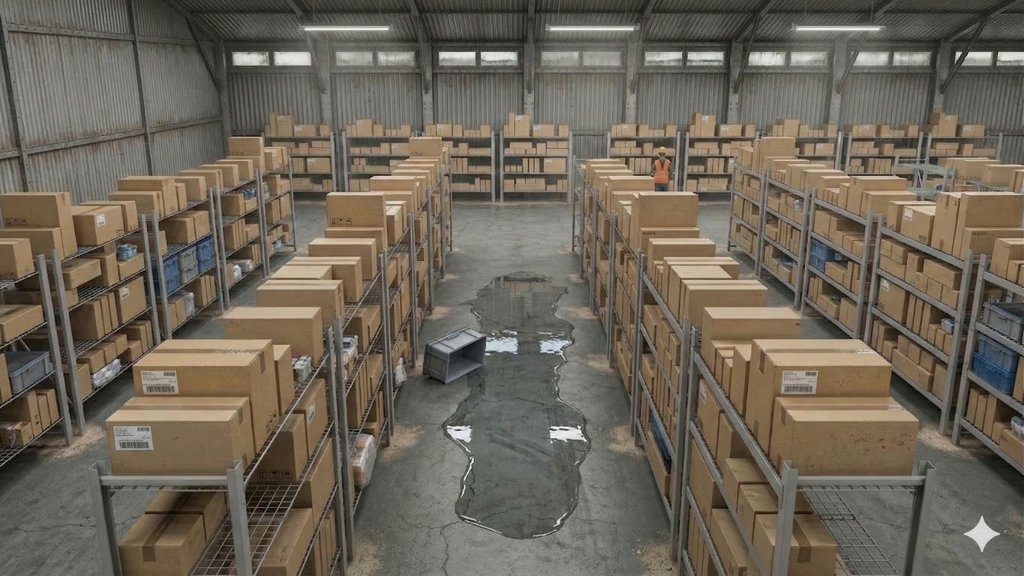empty_shelf: (810, 483, 917, 574), (224, 476, 278, 572), (897, 144, 942, 194)
obstacle: (420, 323, 498, 389)
person: (651, 136, 685, 196)
safety_helmet: (654, 144, 667, 154)
safety_vest: (652, 155, 676, 190)
spill: (464, 258, 609, 543)
